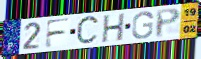2: (22, 21, 43, 51)
C: (75, 14, 101, 48)
F: (43, 17, 72, 50)
G: (131, 11, 155, 40)
H: (100, 12, 127, 44)
P: (155, 7, 182, 39)
